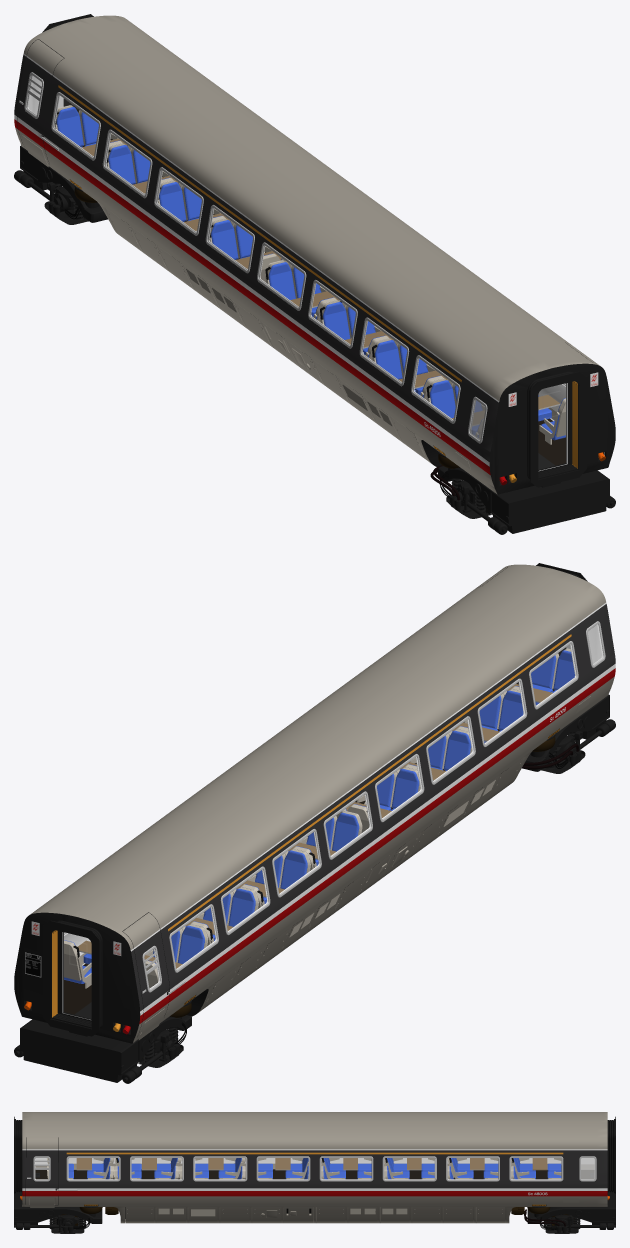
The model's file is train_-_british_rail_apt_1st_class_carriage.glb.
3 views of the same model, one above another, from view 1: azimuth 30°, elevation 25°; view 2: azimuth 150°, elevation 25°; view 3: azimuth 270°, elevation 25° (orthographic). The views are drawn at different scales.
Visible parts, largest first — view 1: Main Body_0, Seats.001_20, Bogie_11, Botton Panels_2, Rear Door Surround_1, Interior Walls_3, Tables.001_21, Yellow Strip_22; view 2: Main Body_0, Seats.001_20, Bogie_11, Botton Panels_2, Rear Door Surround_1, Interior Walls_3, Tables.001_21, Yellow Strip_22; view 3: Main Body_0, Botton Panels_2, Seats.001_20, Bogie_11, Interior Walls_3, Tables.001_21, Yellow Strip_22, Rear Door Surround_1, Wires and Pipes.001_13, Undercarriage.002_12, Step.001_19.
Boxes of the visible parts, left/top/right/bottom form: Main Body_0: left=14, top=15, right=615, bottom=494; Seats.001_20: left=55, top=105, right=565, bottom=444; Bogie_11: left=14, top=146, right=615, bottom=534; Botton Panels_2: left=105, top=208, right=428, bottom=461; Rear Door Surround_1: left=42, top=14, right=586, bottom=487; Interior Walls_3: left=26, top=75, right=604, bottom=471; Tables.001_21: left=81, top=138, right=560, bottom=425; Yellow Strip_22: left=58, top=85, right=461, bottom=382; Main Body_0: left=14, top=564, right=615, bottom=1043; Seats.001_20: left=64, top=648, right=574, bottom=988; Bogie_11: left=14, top=694, right=615, bottom=1083; Botton Panels_2: left=201, top=757, right=523, bottom=1010; Rear Door Surround_1: left=43, top=563, right=587, bottom=1036; Interior Walls_3: left=62, top=624, right=603, bottom=1020; Tables.001_21: left=78, top=684, right=552, bottom=968; Yellow Strip_22: left=168, top=634, right=571, bottom=931; Main Body_0: left=22, top=1112, right=607, bottom=1223; Botton Panels_2: left=125, top=1207, right=504, bottom=1223; Seats.001_20: left=46, top=1158, right=561, bottom=1179; Bogie_11: left=14, top=1191, right=615, bottom=1233; Interior Walls_3: left=35, top=1158, right=594, bottom=1179; Tables.001_21: left=76, top=1158, right=547, bottom=1170; Yellow Strip_22: left=66, top=1152, right=563, bottom=1154; Rear Door Surround_1: left=14, top=1116, right=615, bottom=1193; Wires and Pipes.001_13: left=524, top=1209, right=565, bottom=1230; Undercarriage.002_12: left=35, top=1173, right=594, bottom=1214; Step.001_19: left=30, top=1198, right=54, bottom=1207.
Size of the model in its own units: 3.16 by 3.82 by 20.51.
Materials: 22 (2 with a texture image).
